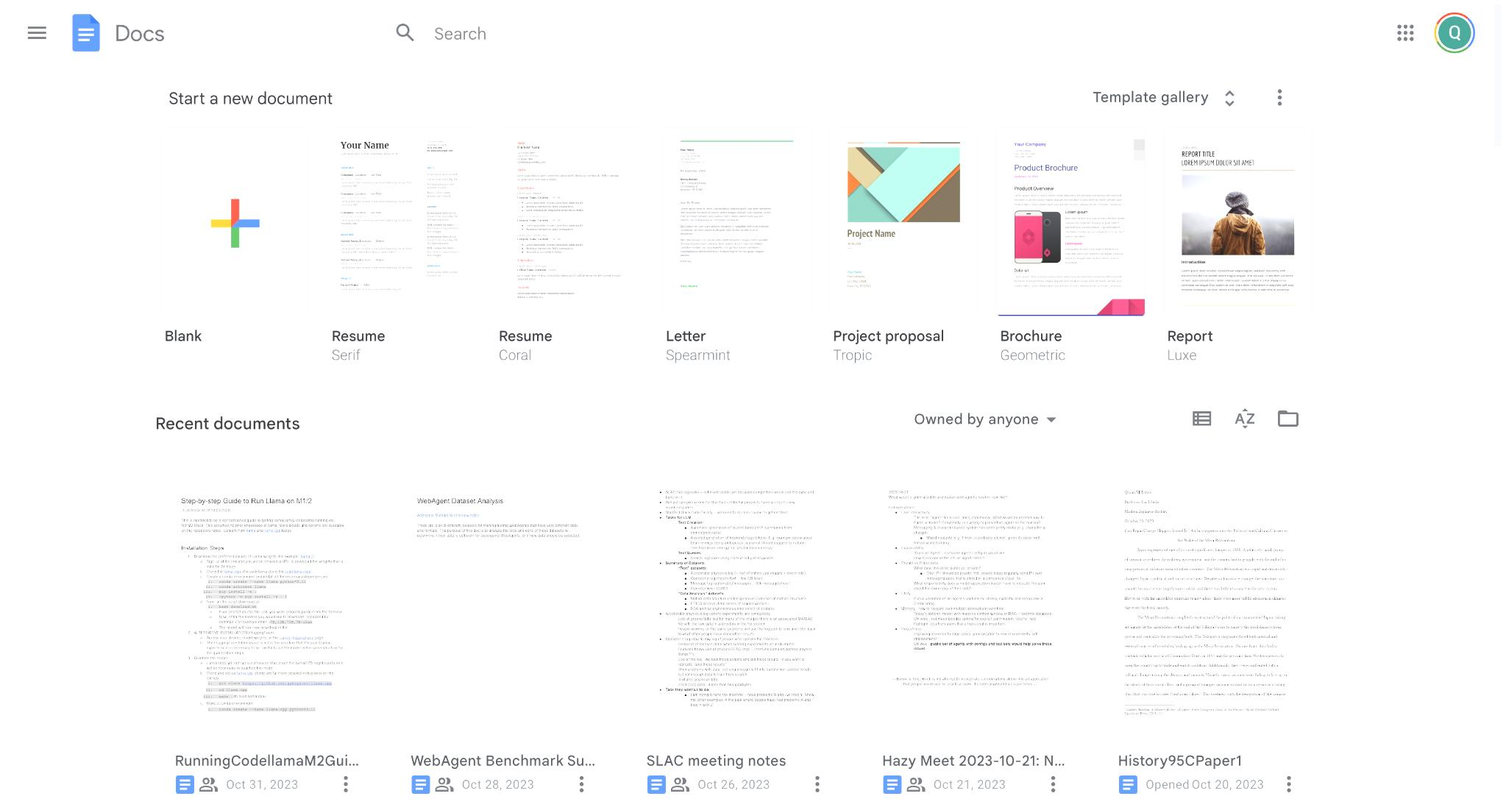webelement: (155, 462, 1334, 799), (160, 122, 1339, 390), (0, 0, 1489, 64), (155, 462, 370, 799), (391, 462, 606, 799), (627, 462, 842, 799), (863, 462, 1078, 799), (1099, 462, 1314, 799), (168, 64, 1079, 130), (376, 7, 1113, 56), (161, 128, 308, 318), (329, 128, 476, 318), (496, 128, 643, 318), (663, 128, 810, 318), (830, 128, 977, 318), (997, 128, 1144, 318), (1165, 128, 1312, 318), (434, 8, 1062, 37), (434, 23, 1062, 43), (155, 389, 299, 454), (1079, 78, 1254, 115), (64, 11, 164, 56), (900, 406, 1069, 431), (882, 751, 1069, 769), (175, 751, 361, 769), (411, 751, 597, 769), (646, 751, 832, 769), (1118, 751, 1304, 769), (377, 8, 434, 55), (12, 7, 60, 56), (1223, 392, 1266, 443), (1267, 392, 1310, 443), (1181, 392, 1223, 443), (913, 411, 1038, 427), (1434, 11, 1475, 52), (1385, 11, 1425, 52), (110, 21, 164, 45), (1262, 80, 1296, 113), (226, 777, 298, 791), (462, 777, 534, 791), (698, 777, 770, 791), (934, 777, 1006, 791), (1191, 777, 1263, 791), (1038, 768, 1069, 799), (331, 768, 361, 799), (566, 768, 596, 799), (802, 768, 832, 799), (1274, 768, 1304, 799), (1146, 777, 1189, 791)
